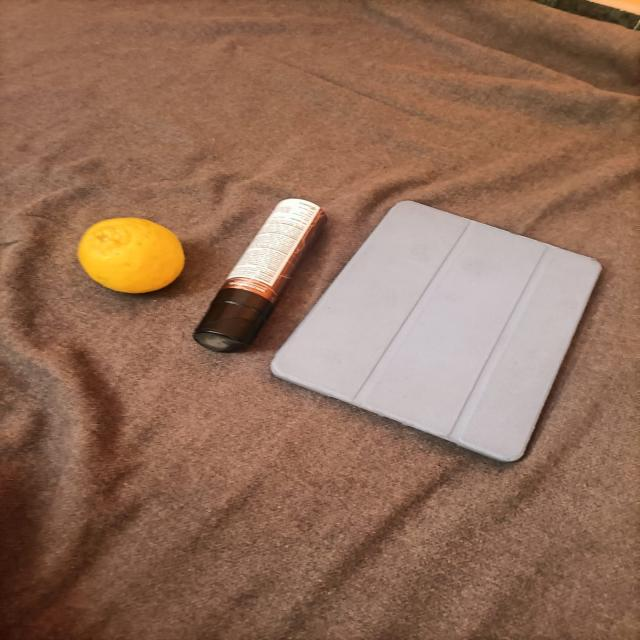orange: (63, 211, 203, 304)
spray: (194, 174, 352, 375)
tablet: (258, 153, 620, 471)
